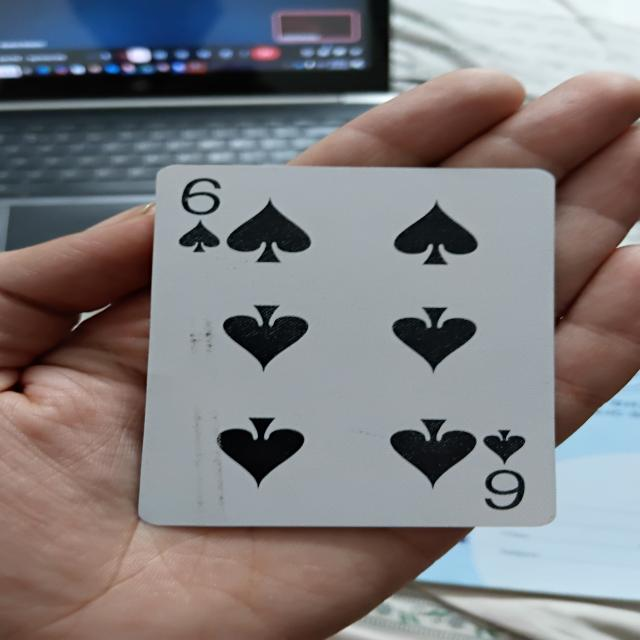6S: (145, 166, 569, 540)
